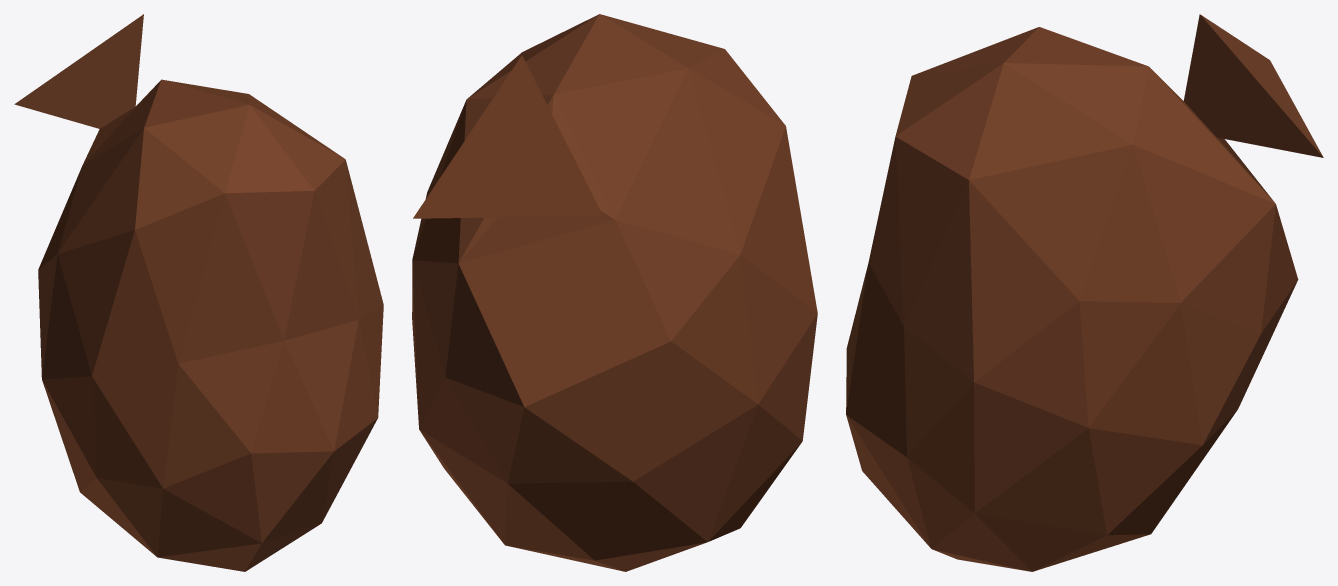
File: Sack.fbx
The picture shows the model from 3 angles, left to right: view 1: azimuth 30°, elevation 25°; view 2: azimuth 150°, elevation 25°; view 3: azimuth 270°, elevation 25°; orthographic projection. The views are drawn at different scales.
Parts seen in each view (by area): view 1: Icosphere; view 2: Icosphere; view 3: Icosphere.
Boxes of the visible parts, x1,y1,x2,y2 form: Icosphere: (14,14,383,571); Icosphere: (412,14,817,571); Icosphere: (846,14,1323,571).
Bounding box in the file's own units: 201 × 316 × 250.
